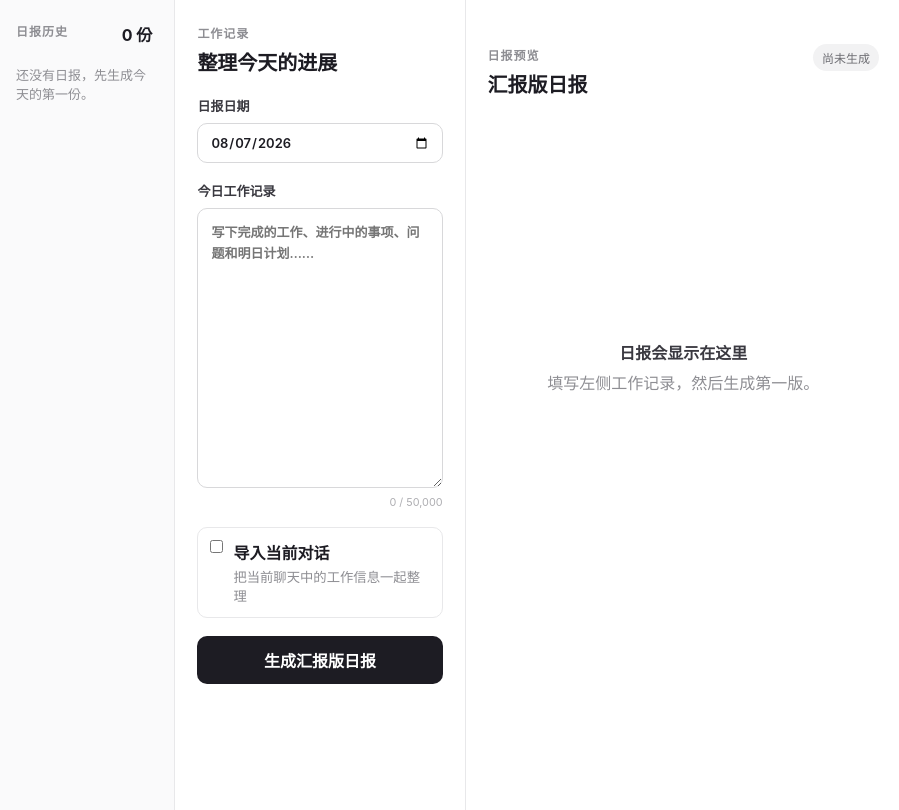
Test: DailyReportPage › generates a report and exposes copy, download, and revision controls
Type "完成日报页面" into the text box labelled "今日工作记录" at [320, 348], box [197,208,443,488]
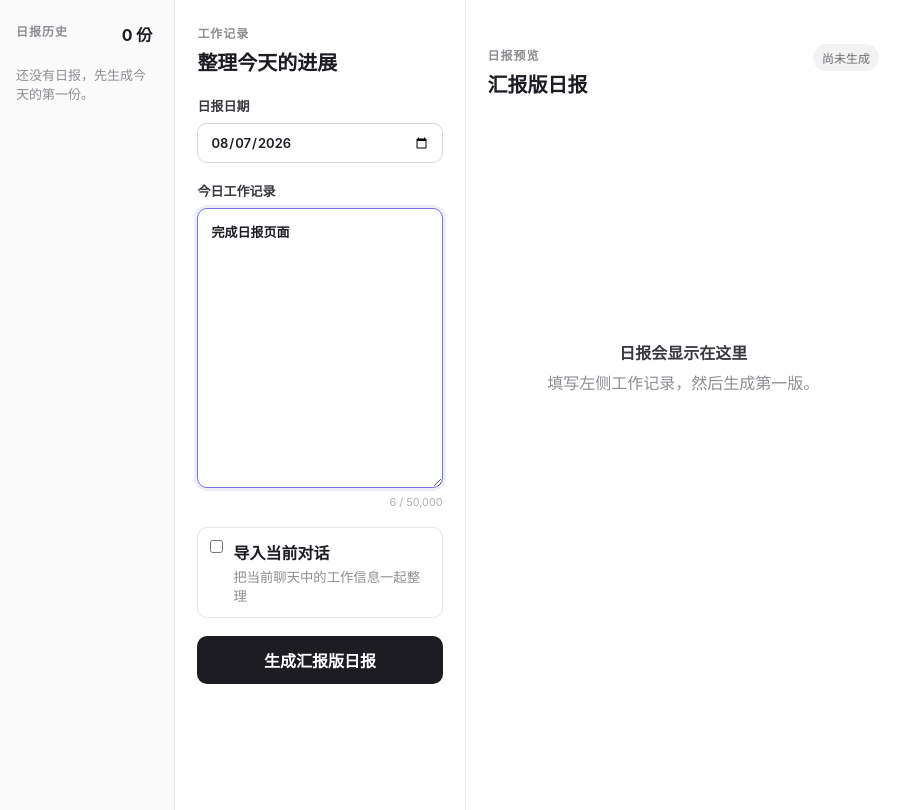
Click the checkbox labelled "导入当前对话" at [217, 546], box [210,540,223,553]
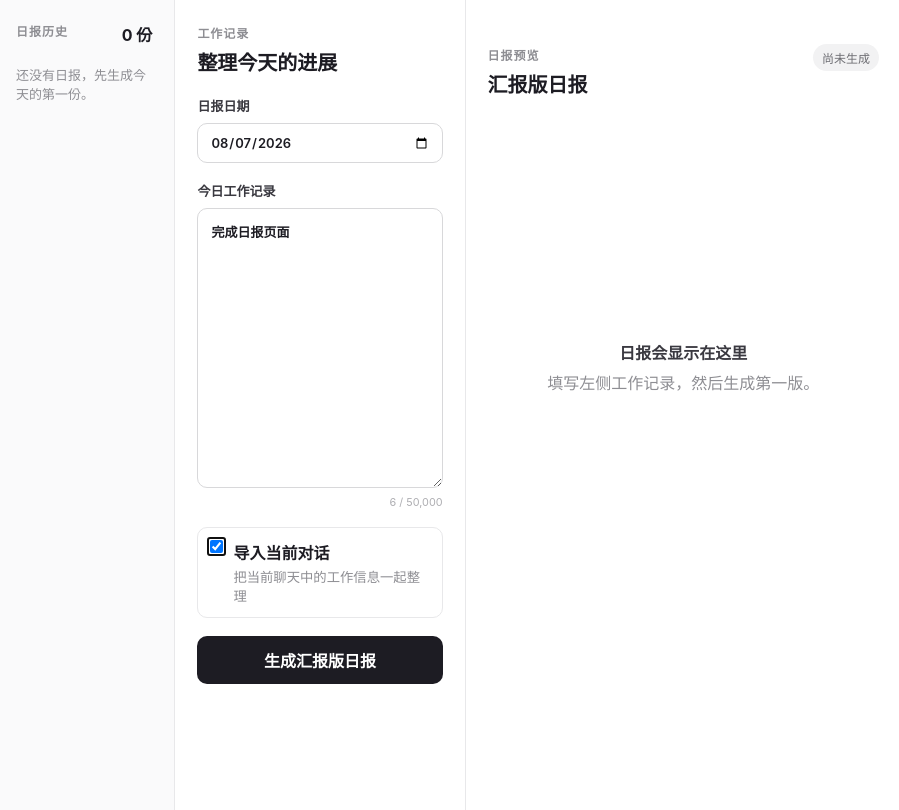
Click the button "生成汇报版日报" at [320, 660], box [197,636,443,684]
(page scrolled)
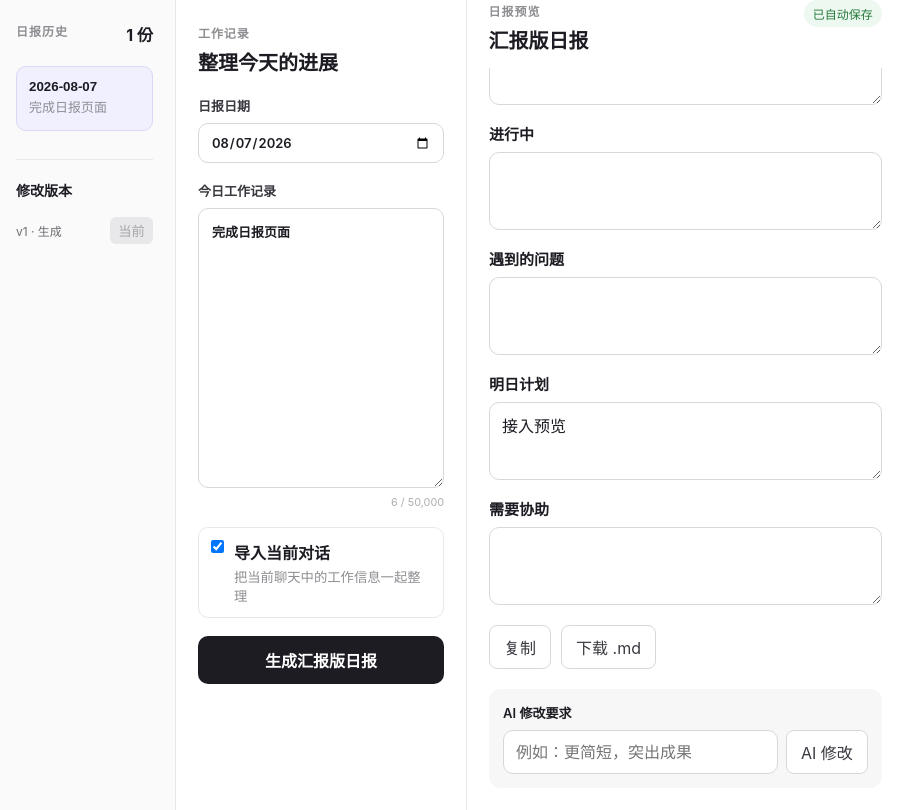
Expected: the text box labelled "今日完成" holds "完成日报页面", [489,27,882,105]
Expected: the button "复制" is enabled, [489,625,551,669]
Expected: the field labelled "AI 修改要求" is shown, [503,730,778,774]
